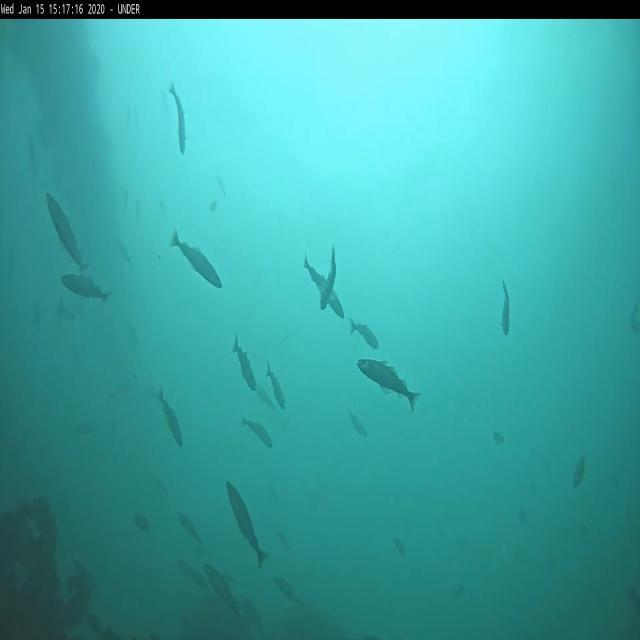fish: (228, 480, 268, 566), (48, 192, 90, 272), (357, 359, 421, 411), (170, 230, 222, 287), (306, 259, 347, 320), (206, 566, 242, 620), (60, 274, 111, 302), (158, 390, 181, 448), (231, 338, 255, 389), (318, 248, 337, 309), (170, 83, 185, 155), (242, 418, 274, 448), (179, 560, 209, 590), (180, 514, 205, 548), (268, 363, 286, 407), (274, 578, 300, 604), (502, 278, 512, 336), (572, 454, 586, 489), (348, 416, 367, 437)
